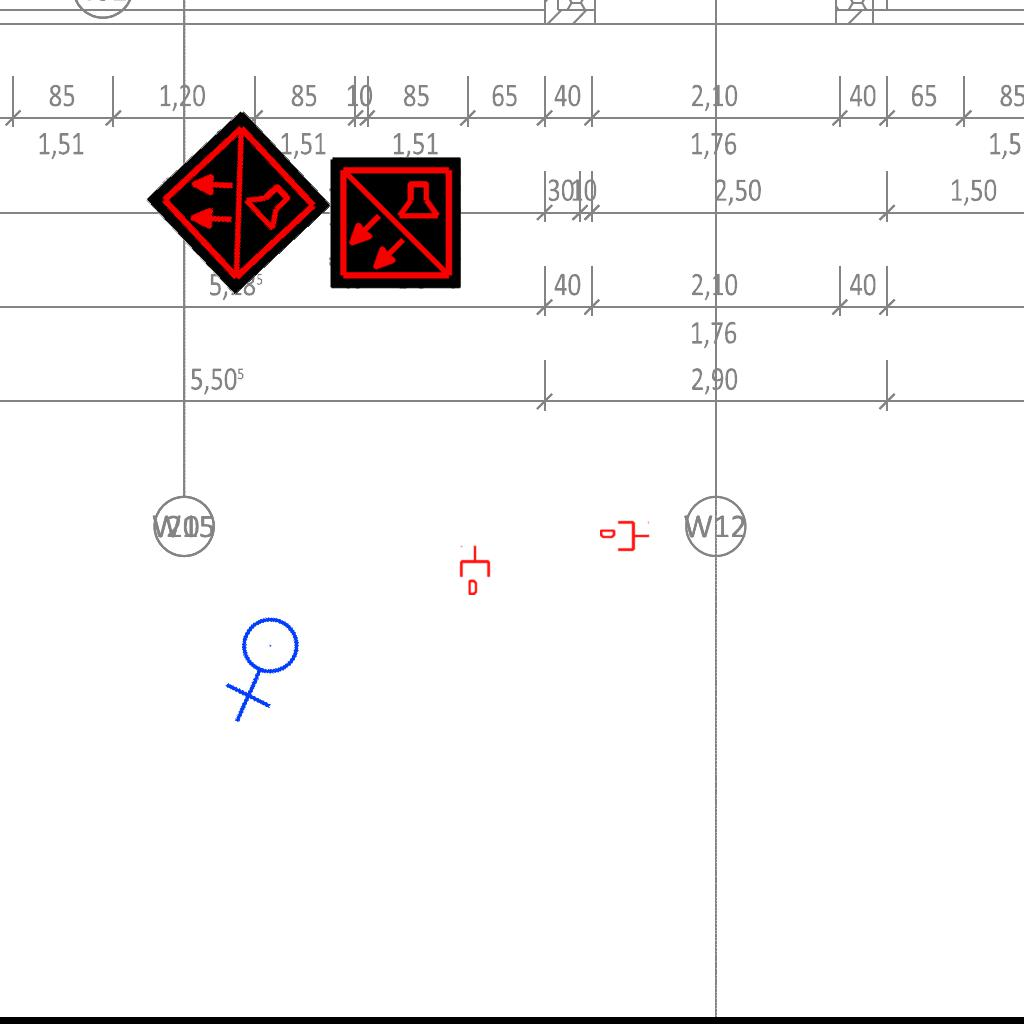Datenanschluss_einfach: (458, 545, 492, 595), (600, 519, 650, 553)
Elektroanschluss_allgemein_230V_Geraeteanschlussdose_230V: (201, 603, 330, 729)
OKW_Multisensormelder_(Kombination_optischer_Rauch-Kahlenmonoxid_Waerme-Melder): (144, 108, 332, 296), (329, 157, 461, 289)
